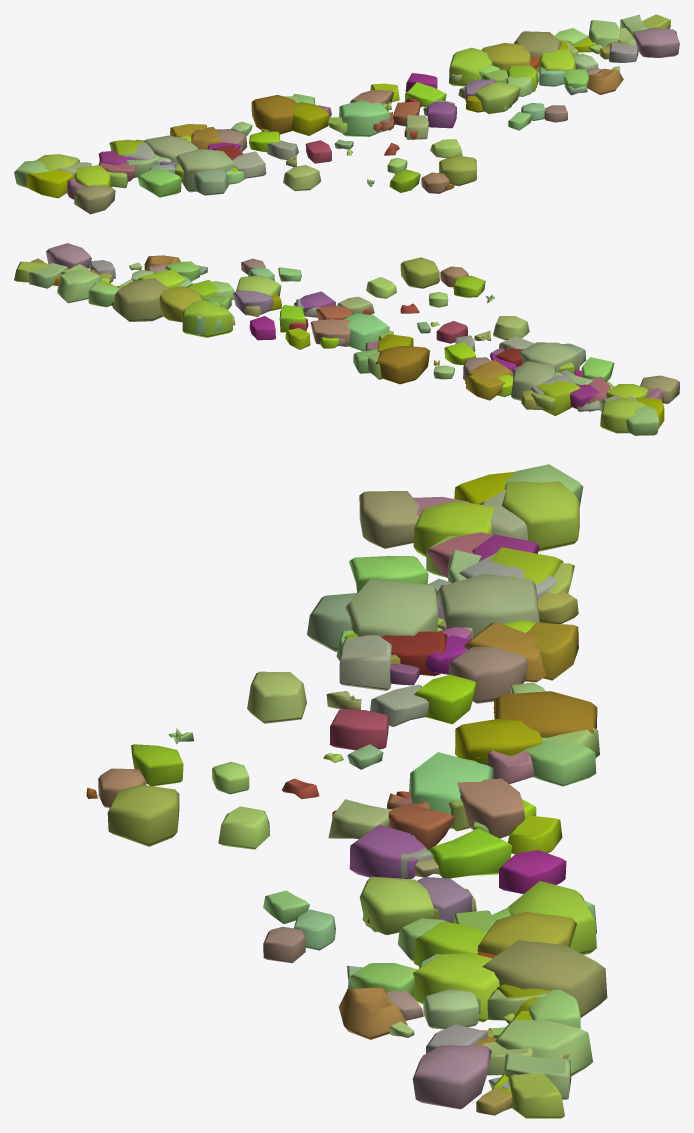
File: SM_GravelWash_2_Stone.glb
3 renders of one model, top to bottom at view 1: azimuth 30°, elevation 25°; view 2: azimuth 150°, elevation 25°; view 3: azimuth 270°, elevation 25°, orthographic. The views are drawn at different scales.
Visible parts, largest first — view 1: SM_GravelWash_2_Stone; view 2: SM_GravelWash_2_Stone; view 3: SM_GravelWash_2_Stone.
Boxes of the visible parts, x1,y1,x2,y2 form: SM_GravelWash_2_Stone: [14, 14, 679, 214]; SM_GravelWash_2_Stone: [14, 243, 679, 435]; SM_GravelWash_2_Stone: [86, 464, 607, 1118].
Bounding box in the file's own units: 1.67 × 0.0865 × 0.5834.
